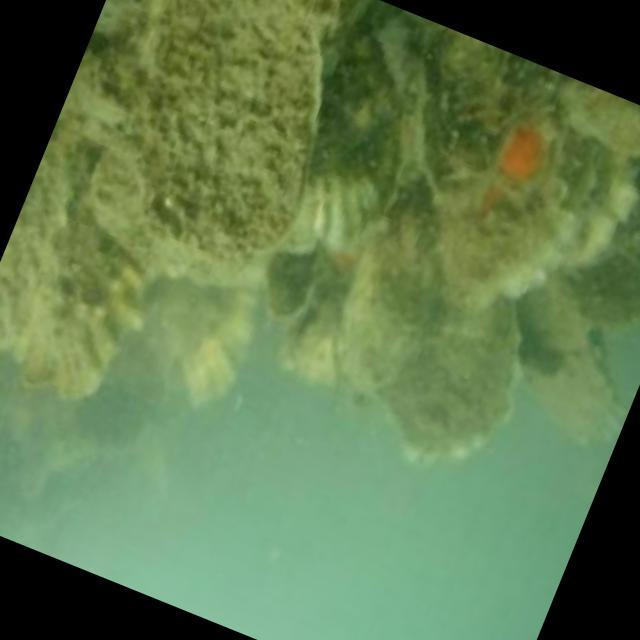Oyster- Indeterminate: (284, 216, 568, 497), (423, 30, 640, 292), (5, 218, 173, 419), (157, 282, 298, 426), (515, 321, 640, 467)
Oyster-Closed: (143, 0, 324, 289)
